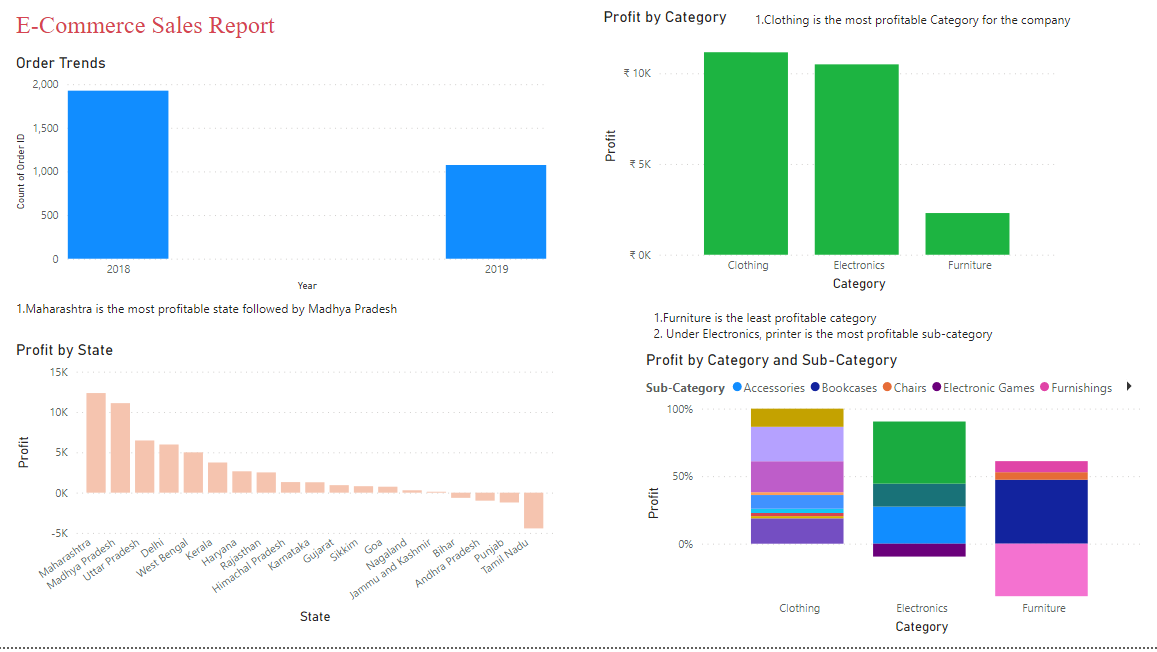

The dashboard page shown, as its layout file describes it:
{"tool":"powerbi","page":{"name":"Page 1","canvas":[1280,720],"ordinal":0},"visuals":[{"type":"columnChart","fields":{"Y":["Sum(in (2).Profit)"],"Category":["in (2).Category","in (2).Sub-Category"]},"box":[664.7,16.5,509.5,317.3],"z":0},{"type":"clusteredColumnChart","fields":{"Category":["in.State"],"Y":["Sum(in.in (2).Profit)"]},"box":[19.2,383.2,600.2,315.9],"z":1000},{"type":"textbox","box":[19.2,16.5,326.9,50.8],"z":2000},{"type":"columnChart","title":"Order Trends","fields":{"Category":["in.Order Date.Variation.Date Hierarchy.Year","in.Order Date.Variation.Date Hierarchy.Day"],"Y":["CountNonNull(in.Order ID)"]},"box":[19.2,67.3,593.3,266.4],"z":3000},{"type":"hundredPercentStackedColumnChart","fields":{"Series":["in (2).Sub-Category"],"Y":["Sum(in (2).Profit)"],"Category":["in (2).Category"]},"box":[711.4,394.2,554.8,315.9],"z":4000},{"type":"textbox","box":[830.9,16.5,435.4,49.4],"z":5000},{"type":"textbox","box":[19.2,333.7,488.9,49.4],"z":6000},{"type":"textbox","box":[720,343.7,488.9,49.4],"z":6001}]}

Visuals, with their boxes in screenshot pixels (x1, y1, x2, y2), scaled from the page's 1280x720 canvas onto the 1157x652 screenshot:
columnChart - Sum(in (2).Profit) x in (2).Category: l=601, t=15, r=1061, b=302
clusteredColumnChart - in.State x Sum(in.in (2).Profit): l=17, t=347, r=560, b=633
textbox: l=17, t=15, r=313, b=61
"Order Trends" columnChart: l=17, t=61, r=554, b=302
hundredPercentStackedColumnChart - in (2).Sub-Category x Sum(in (2).Profit): l=643, t=357, r=1145, b=643
textbox: l=751, t=15, r=1145, b=60
textbox: l=17, t=302, r=459, b=347
textbox: l=651, t=311, r=1093, b=356
